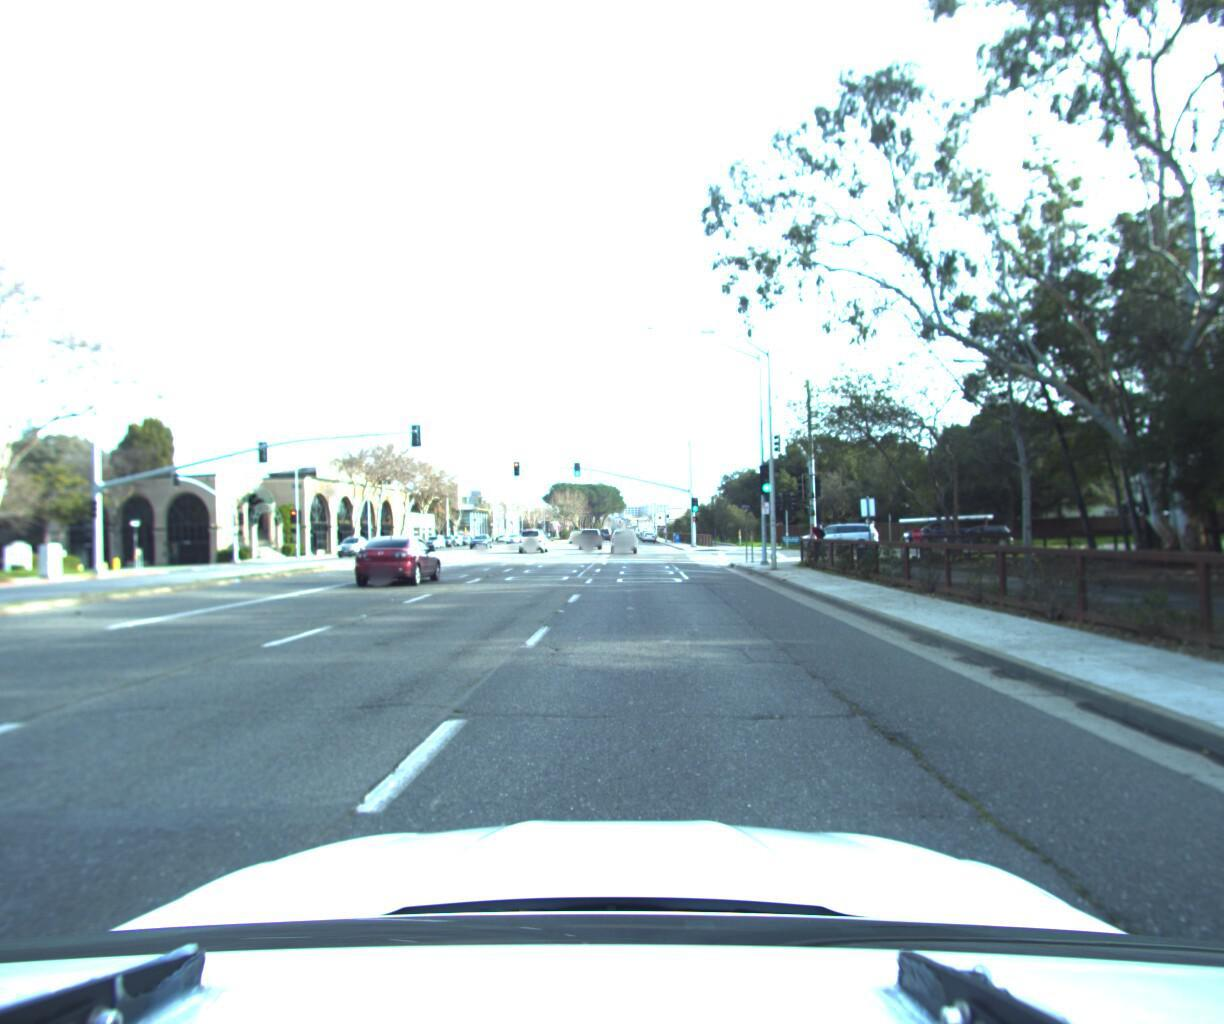bicycle: (797, 516, 837, 559)
car: (351, 531, 446, 587), (895, 508, 993, 543), (795, 518, 878, 548), (517, 526, 551, 552), (336, 533, 374, 556), (610, 524, 640, 552), (577, 527, 602, 549), (468, 529, 495, 548)
